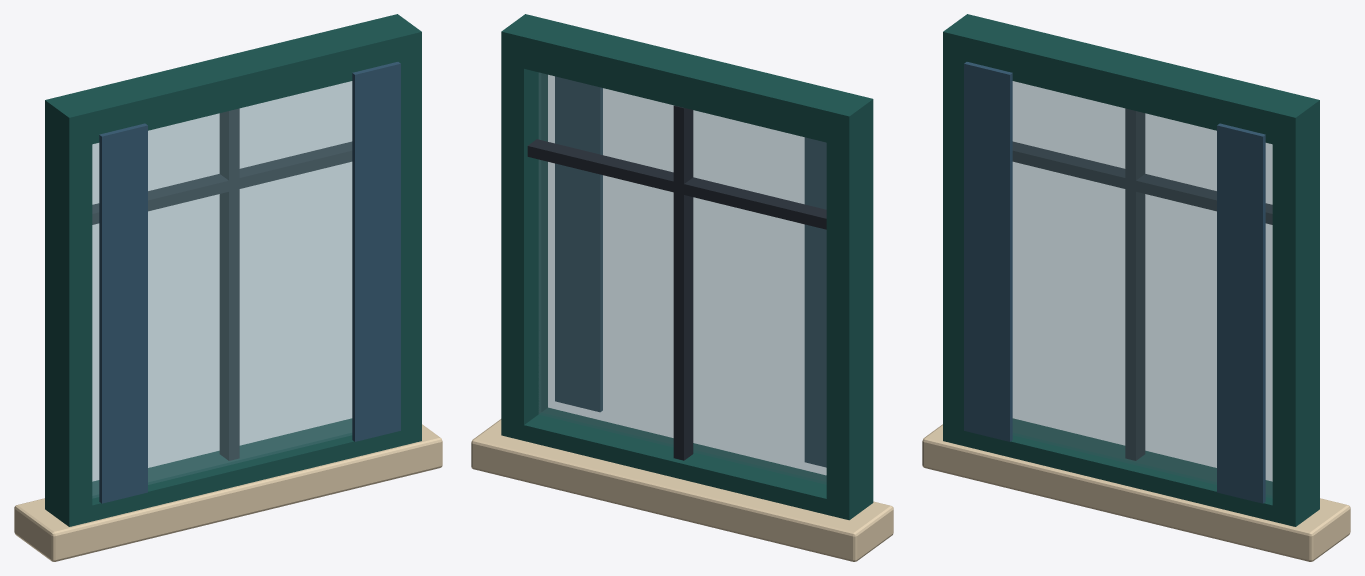
File: window.glb
3 views of the same model, side by side, from view 1: azimuth 30°, elevation 25°; view 2: azimuth 150°, elevation 25°; view 3: azimuth 330°, elevation 25° (orthographic).
Visible parts, largest first — view 1: shell-apt-glass--1, shell-apt-teal--1, interior-apt-blue--1, shell-apt-cream--1, shell-apt-navy--1; view 2: shell-apt-glass--1, shell-apt-teal--1, interior-apt-blue--1, shell-apt-cream--1, shell-apt-navy--1; view 3: shell-apt-glass--1, shell-apt-teal--1, interior-apt-blue--1, shell-apt-cream--1, shell-apt-navy--1.
Boxes of the visible parts, bbox=[...] form: shell-apt-glass--1: bbox=[92, 81, 352, 497]; shell-apt-teal--1: bbox=[45, 14, 421, 526]; interior-apt-blue--1: bbox=[99, 62, 400, 503]; shell-apt-cream--1: bbox=[14, 424, 442, 561]; shell-apt-navy--1: bbox=[92, 108, 352, 460]; shell-apt-glass--1: bbox=[538, 72, 826, 484]; shell-apt-teal--1: bbox=[501, 14, 873, 520]; interior-apt-blue--1: bbox=[555, 76, 826, 467]; shell-apt-cream--1: bbox=[471, 419, 893, 561]; shell-apt-navy--1: bbox=[527, 105, 826, 460]; shell-apt-glass--1: bbox=[1012, 81, 1272, 497]; shell-apt-teal--1: bbox=[943, 14, 1319, 526]; interior-apt-blue--1: bbox=[964, 62, 1265, 503]; shell-apt-cream--1: bbox=[922, 424, 1350, 561]; shell-apt-navy--1: bbox=[1012, 108, 1272, 460].
Bounding box in the file's own units: 2.04 × 2.19 × 0.3875.
